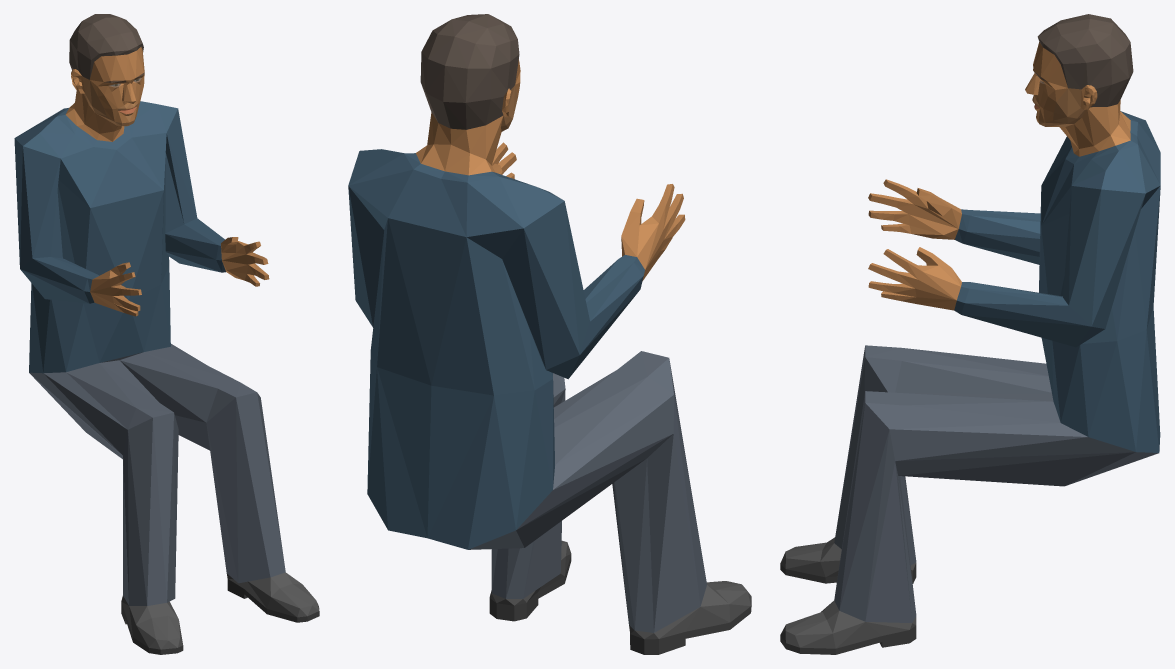
The model's file is human-male-1-sitting.glb.
3 renders of one model, left to right at view 1: azimuth 30°, elevation 25°; view 2: azimuth 150°, elevation 25°; view 3: azimuth 270°, elevation 25°, orthographic. The views are drawn at different scales.
Visible parts, largest first — view 1: human/male@1/sitting; view 2: human/male@1/sitting; view 3: human/male@1/sitting.
Boxes of the visible parts, box(x1,y1,x2,y2) form: human/male@1/sitting: box(14, 14, 319, 654); human/male@1/sitting: box(348, 14, 751, 654); human/male@1/sitting: box(780, 14, 1160, 654).
Size of the model in its own units: 454 by 1331 by 779.
